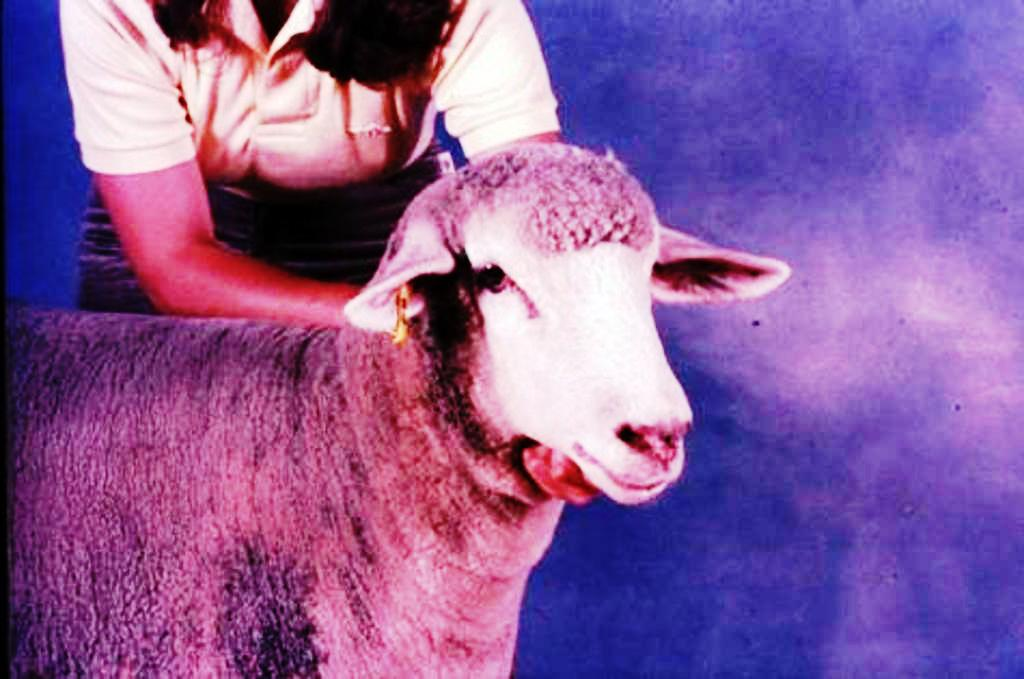Sheep: (17, 132, 778, 679)
